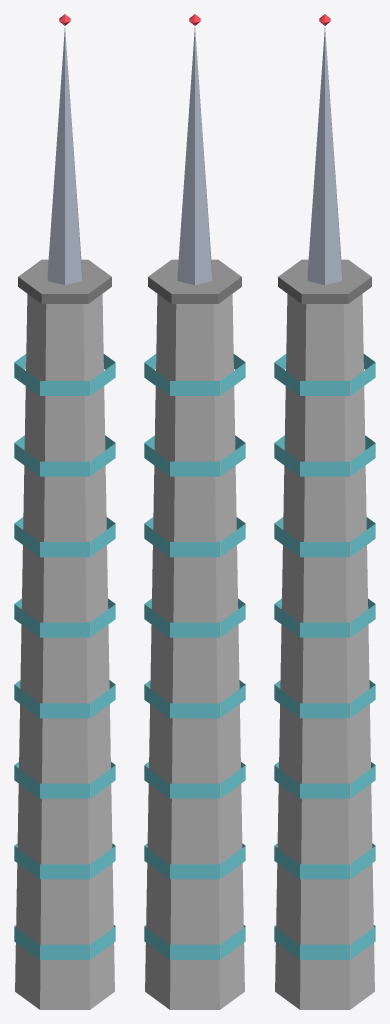
Rendered from tower_slim.obj.
The picture shows the model from 3 angles, left to right: view 1: azimuth 90°, elevation 25°; view 2: azimuth 150°, elevation 25°; view 3: azimuth 270°, elevation 25°; orthographic projection.
Size of the model in its own units: 7.91 by 97.1 by 9.1.
